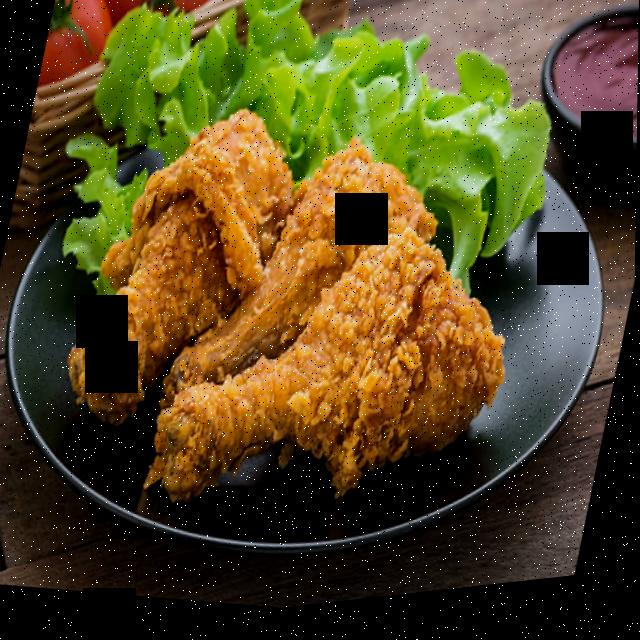Frango: (39, 54, 555, 582)
